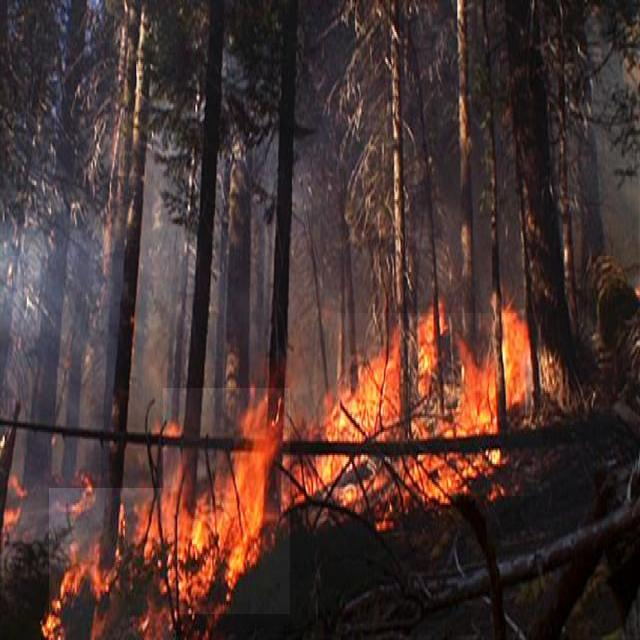Fire: (337, 313, 542, 496), (163, 388, 290, 614), (49, 488, 176, 640)
